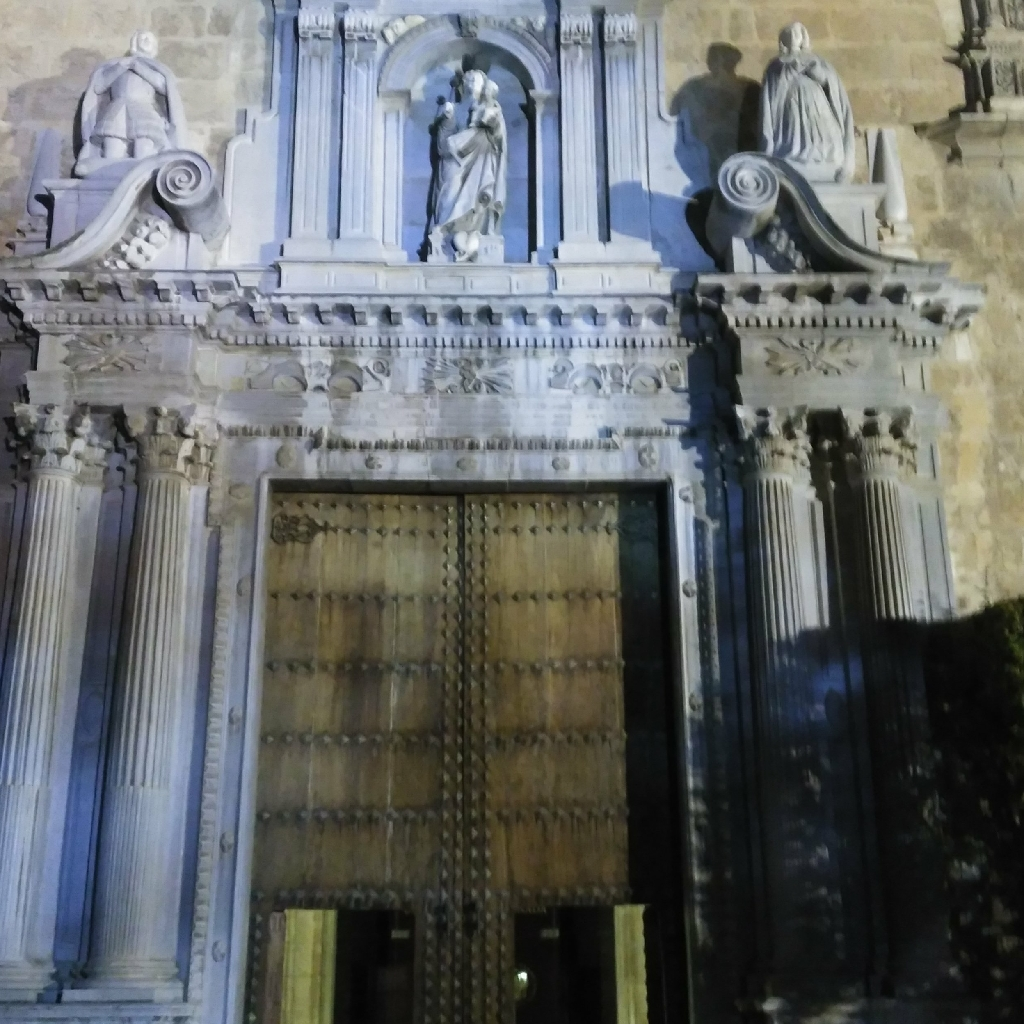fronton-partido: (1, 144, 959, 314)
vano-adintelado: (204, 427, 716, 1024)
